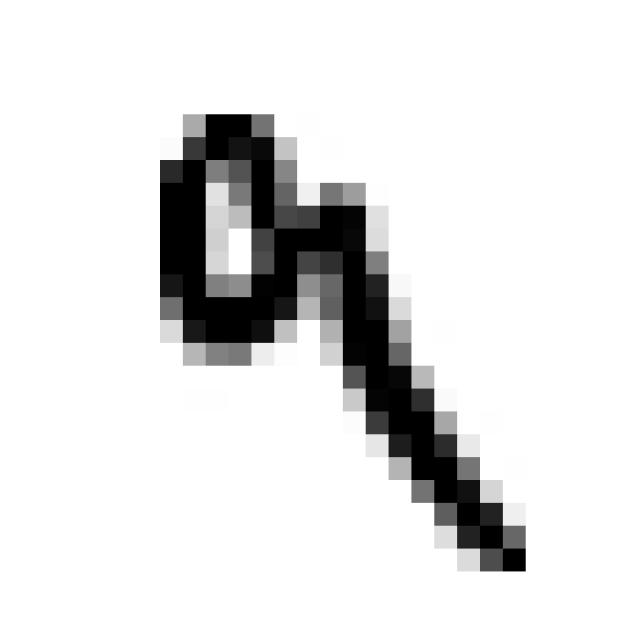9 -nine-: (135, 96, 547, 596)
